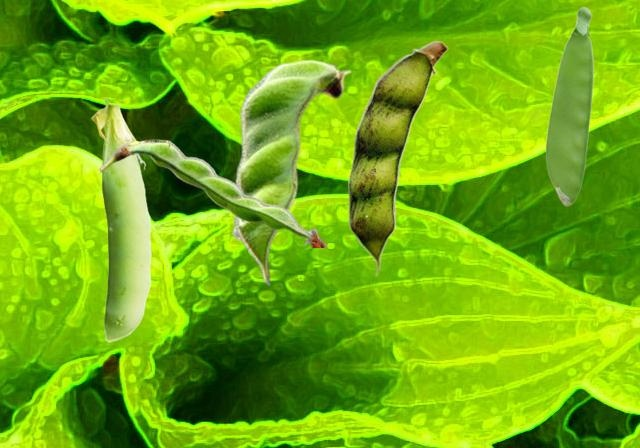pea: (231, 59, 351, 285), (98, 139, 326, 246), (348, 40, 447, 275), (91, 97, 150, 341), (545, 6, 593, 205)
